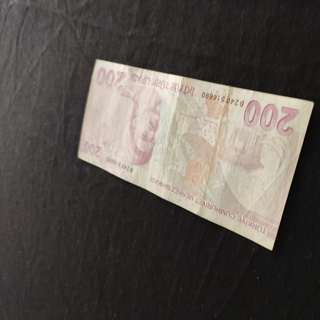200TLBack: (77, 58, 314, 251)
